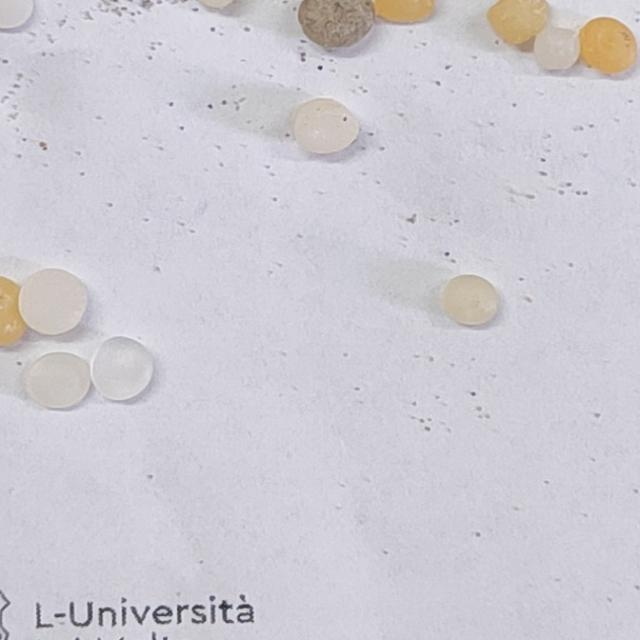beads: (7, 258, 96, 347), (83, 330, 159, 408), (24, 350, 93, 411), (292, 96, 361, 155), (298, 1, 375, 46), (580, 16, 639, 74), (442, 273, 500, 327), (536, 23, 582, 70)
